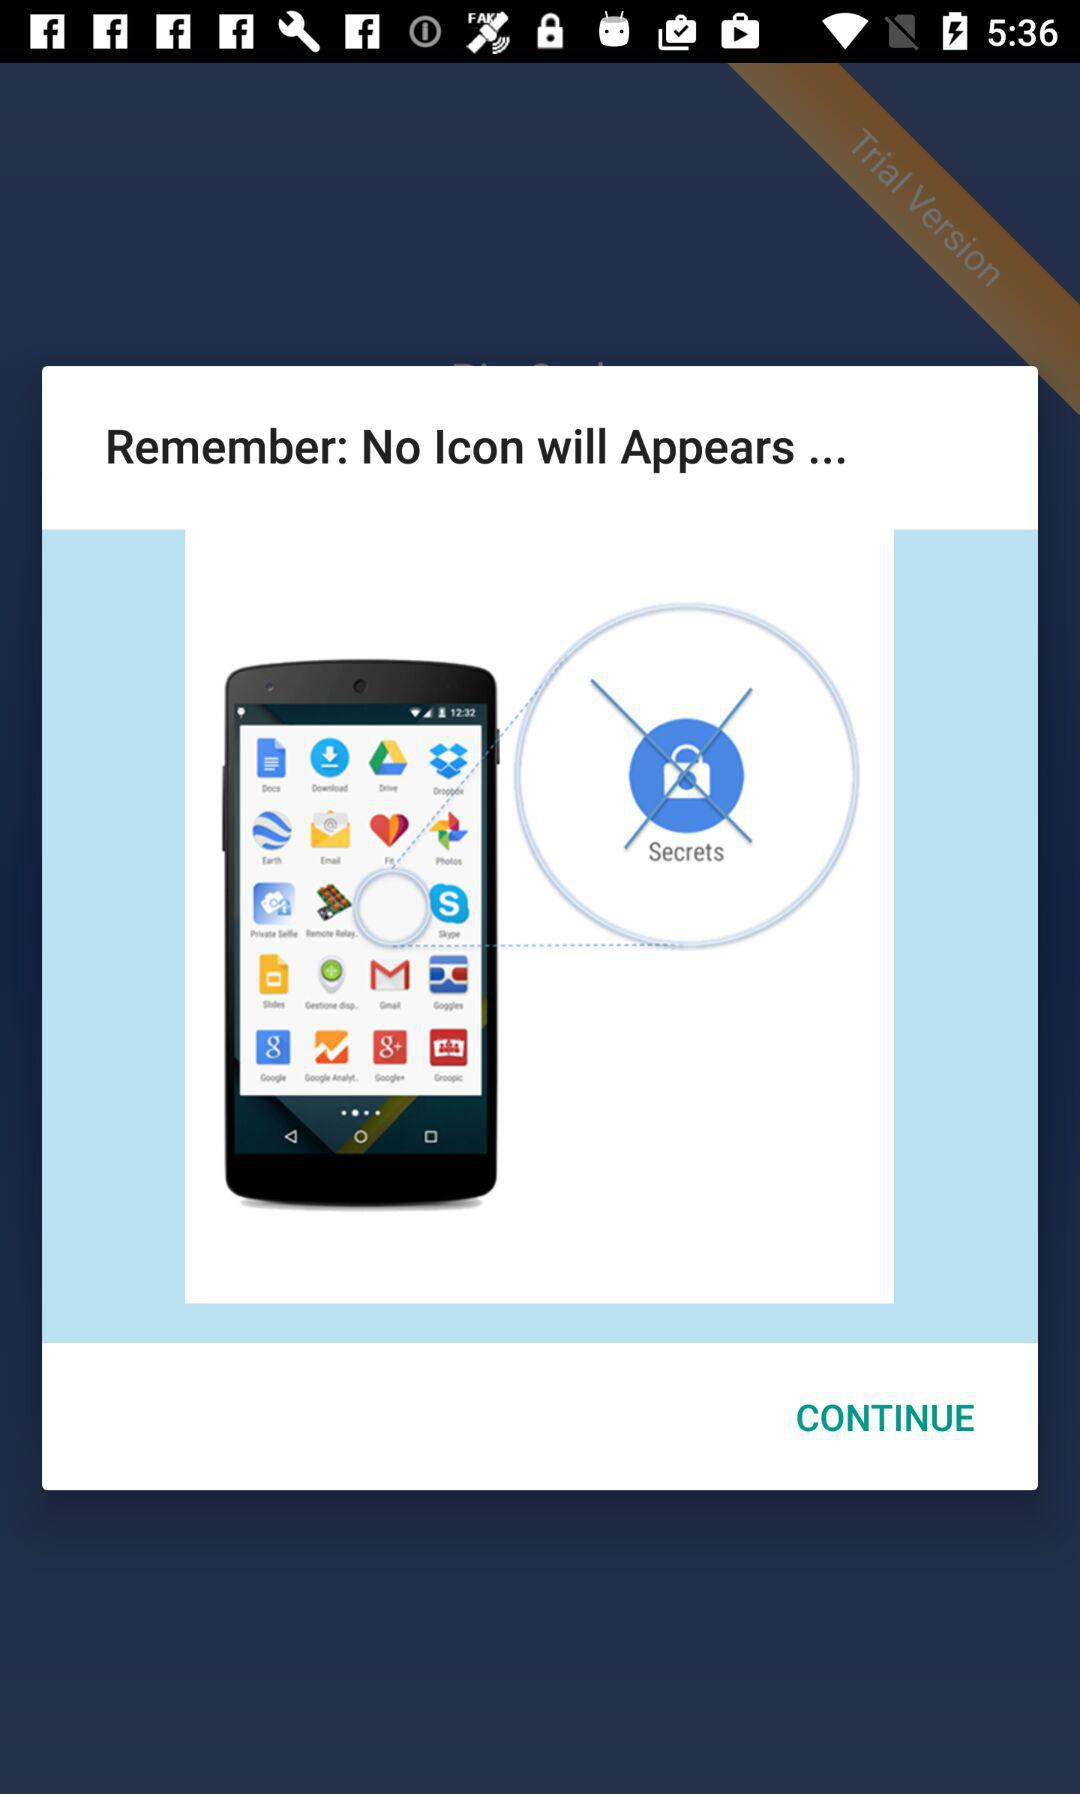Image: (220, 604, 860, 1214)
Modal: (44, 366, 1038, 1492)
Text: (108, 427, 846, 475), (797, 1404, 975, 1433)
UpperTaskBar: (1, 1, 1080, 64)
